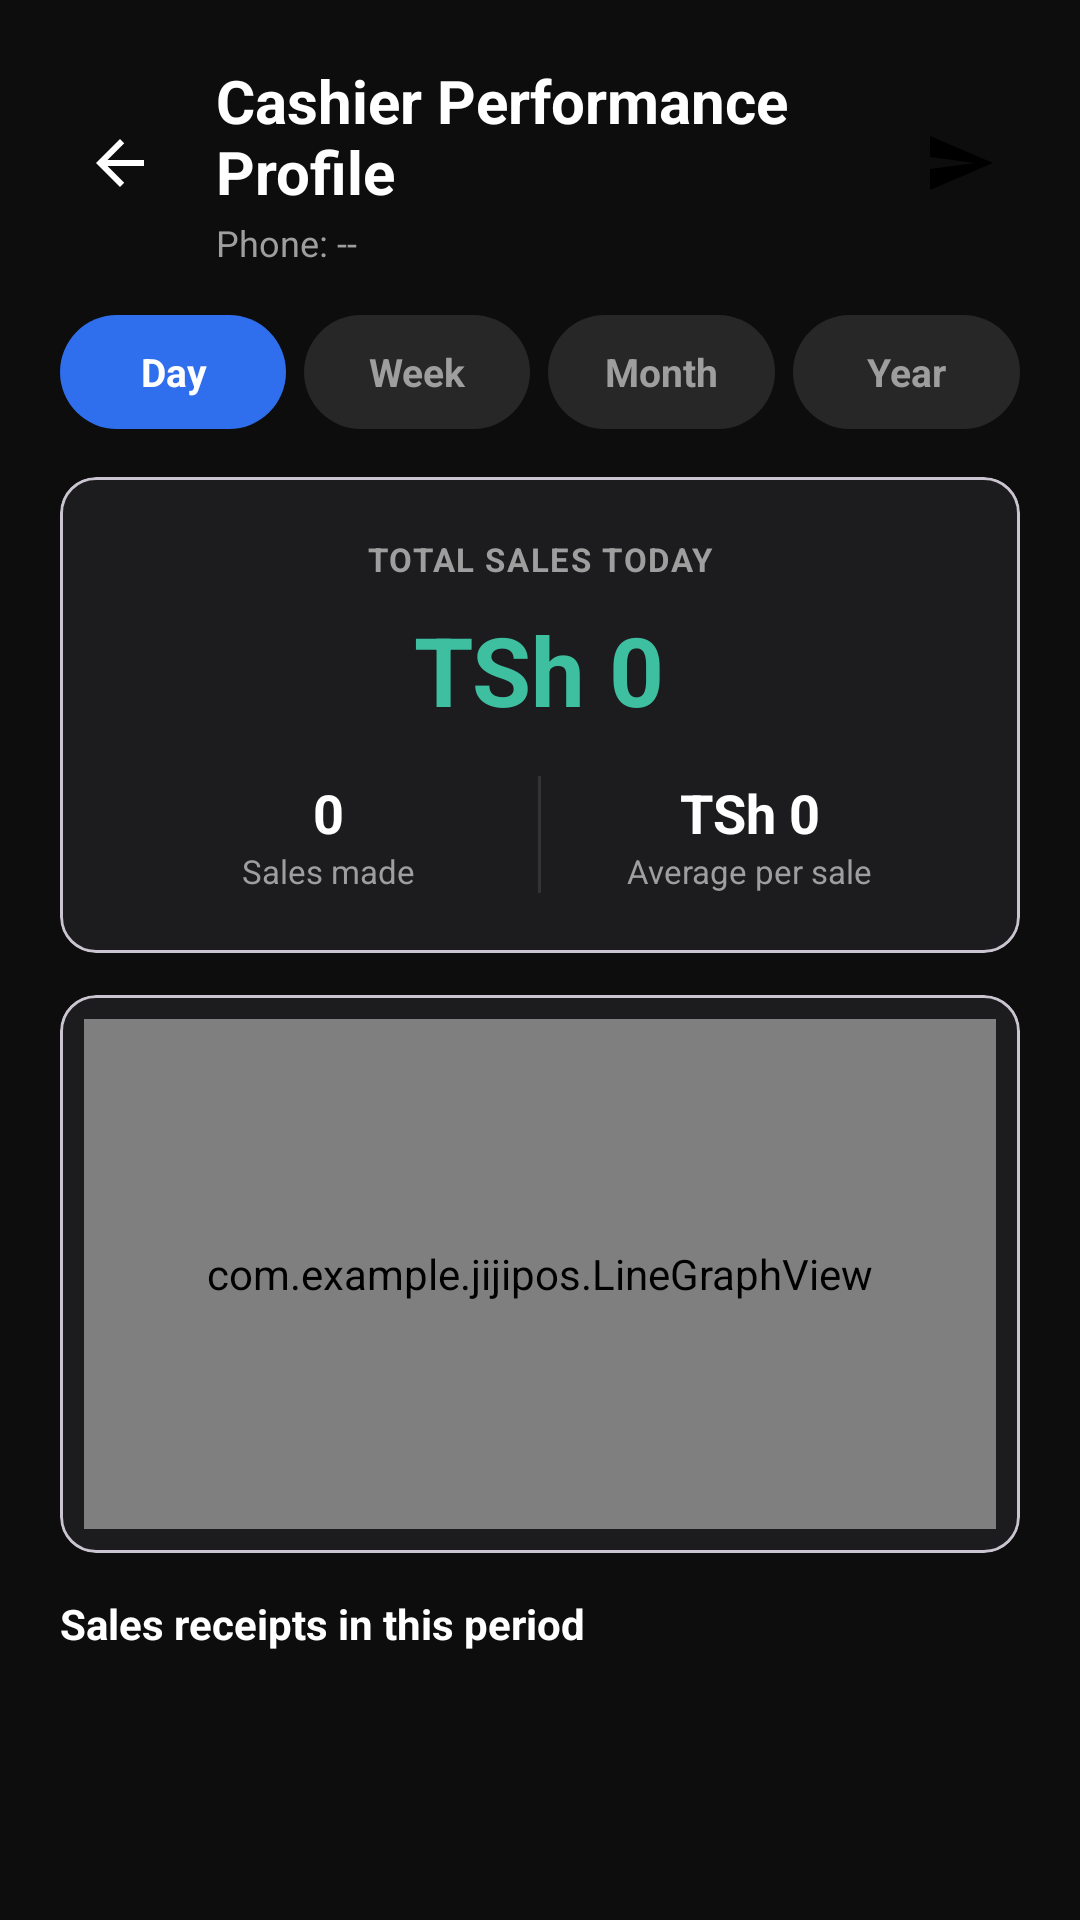

Named icons in this screenshot (1080×1920) and their centers, (x=x, y=y):
Back: (x=120, y=163)
